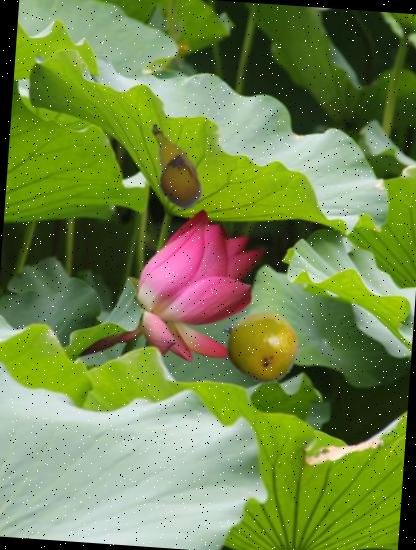Banana: (124, 117, 220, 214)
Maracuja: (218, 306, 302, 388)
